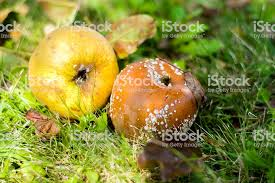damaged_apple: (29, 27, 119, 123), (110, 63, 201, 142)
